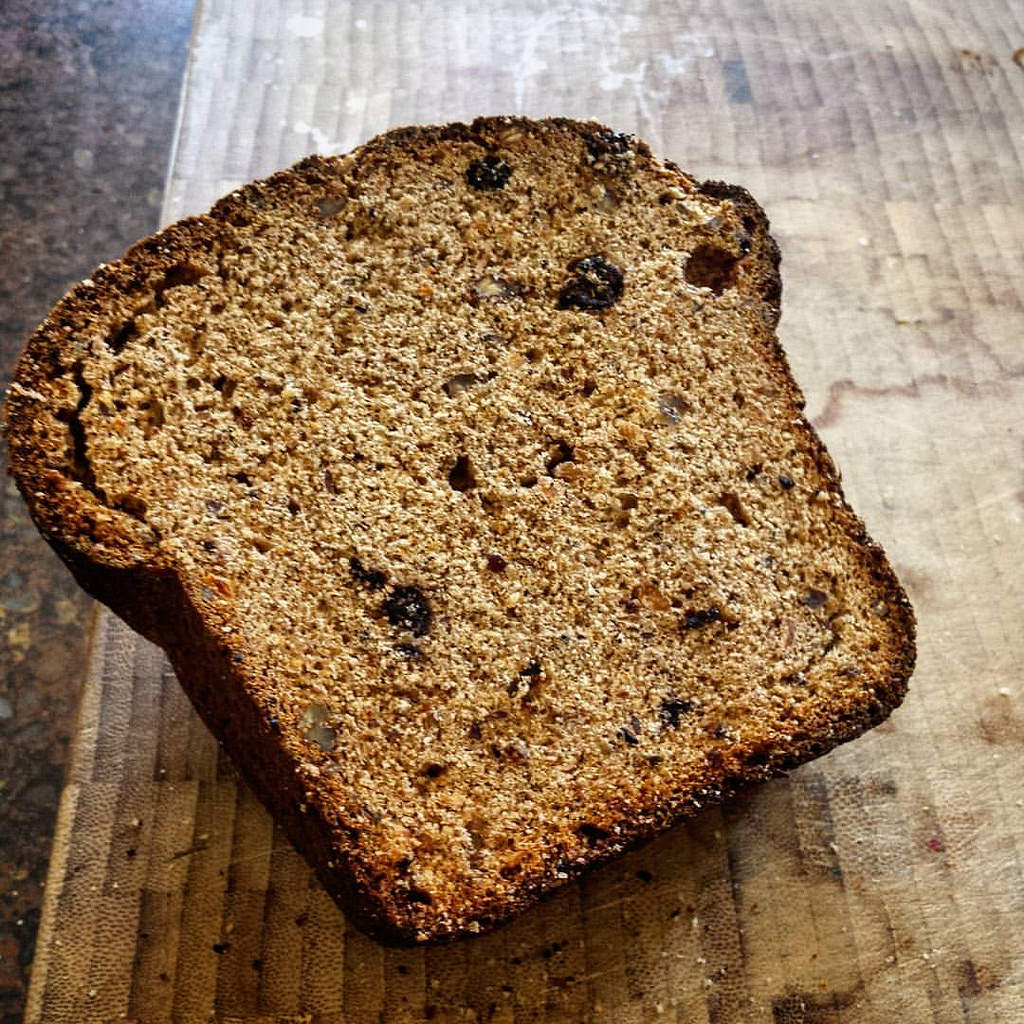slice of bread: (34, 240, 924, 919)
